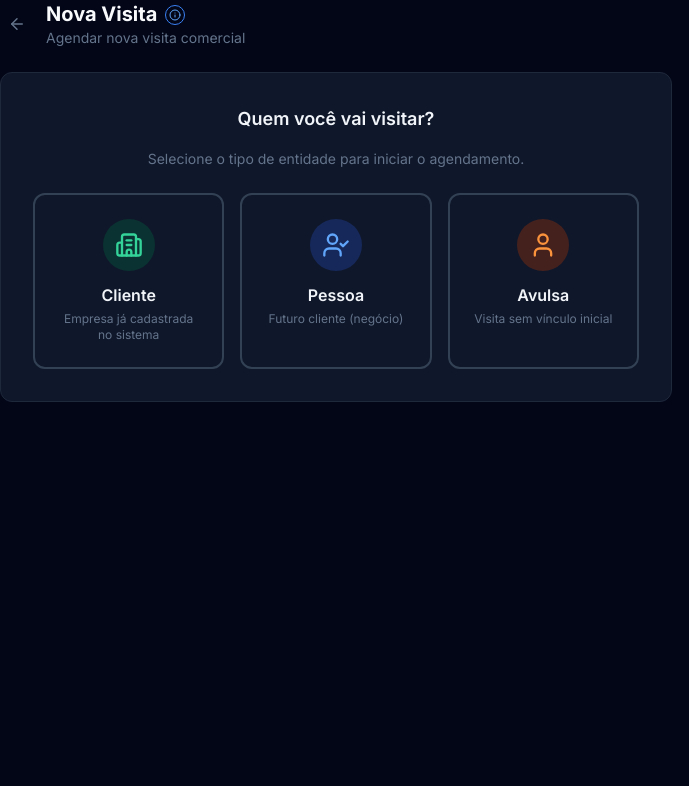
Test case: NovaVisitaPage › carrega as propostas pelo título no dropdown de proposta vinculada
The width and height of the screenshot is (689, 786).
Expected: the heading "Nova Visita" is shown, [46,2,185,26]
Click the button "Pessoa Futuro cliente (negócio)".
click(336, 281)  # box [240,193,432,369]
(page scrolled)
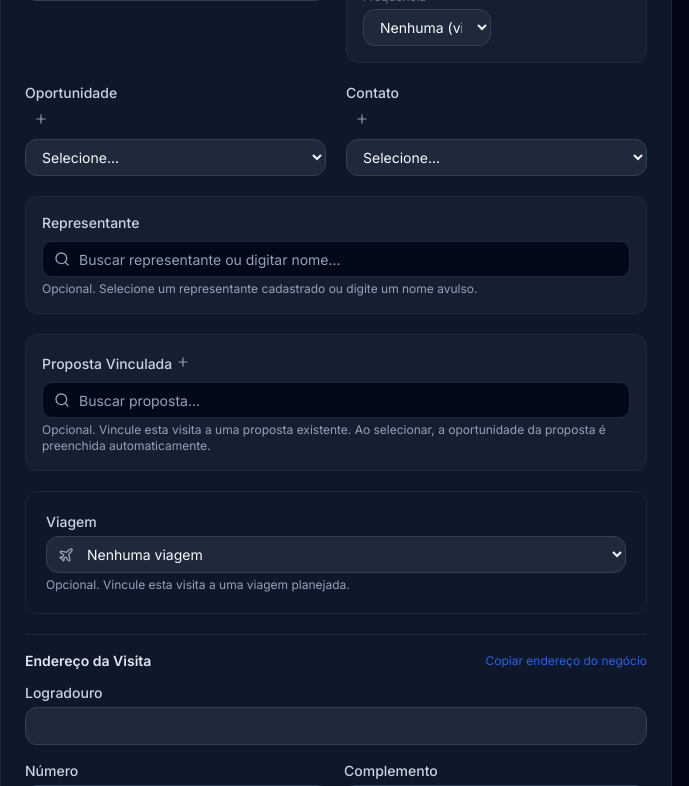
Type "orç" into the dropdown with placeholder "Buscar proposta...".
click(336, 400); type("orç")  # box [42,382,630,418]
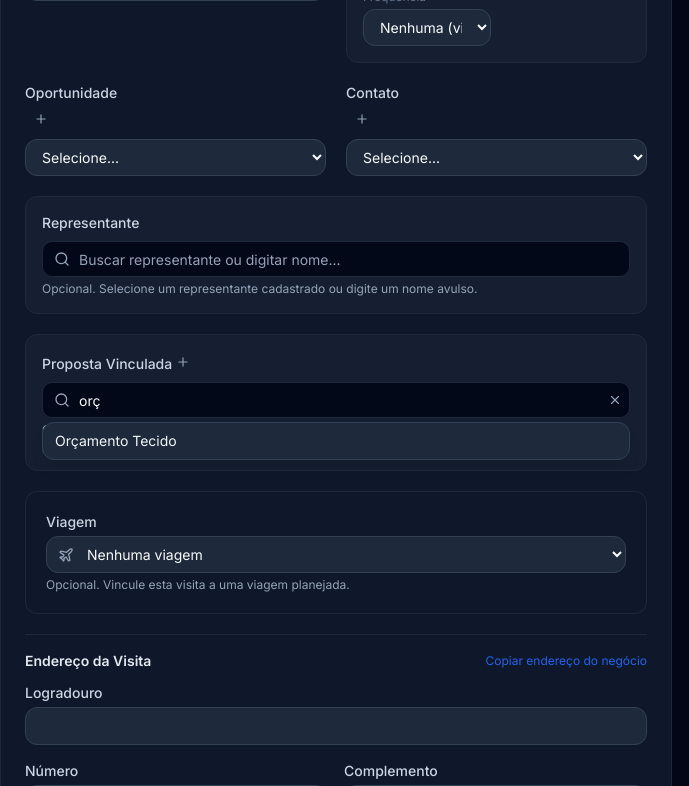
Now the option "Orçamento Tecido" is shown, box [43,423,629,459]
